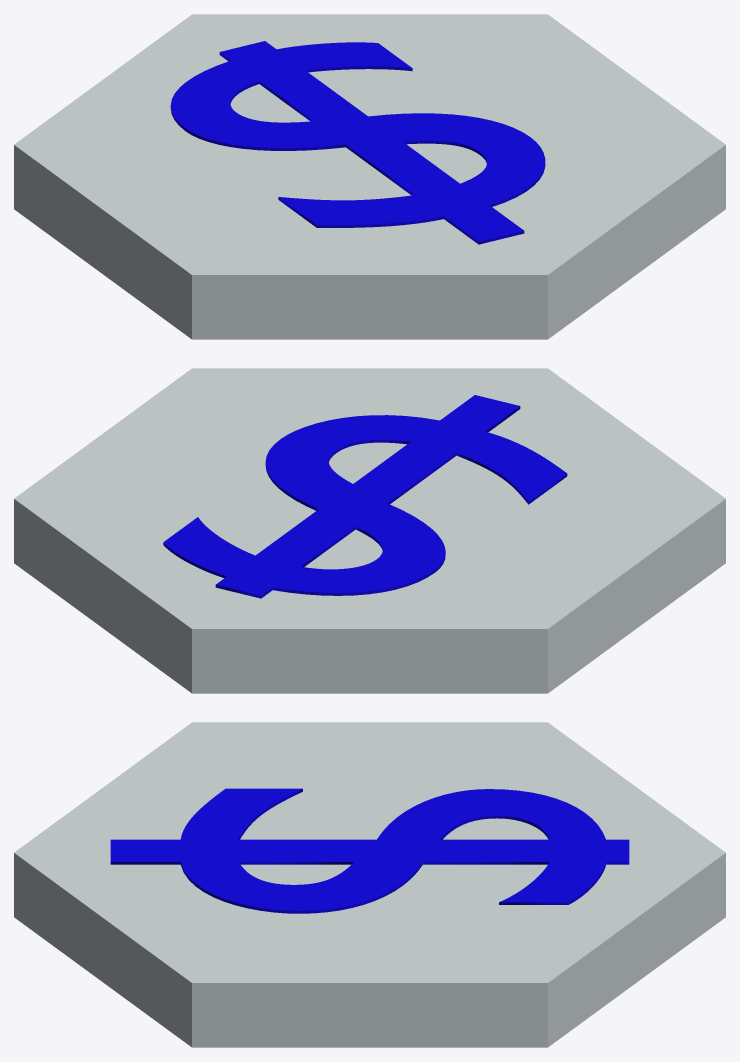
Rendered from money-temple.fbx.
3 views of the same model, one above another, from view 1: azimuth 30°, elevation 25°; view 2: azimuth 150°, elevation 25°; view 3: azimuth 270°, elevation 25° (orthographic).
Parts seen in each view (by area): view 1: Temple.001|Cylinder|Dupli|1, Temple.001|$|Dupli|; view 2: Temple.001|Cylinder|Dupli|1, Temple.001|$|Dupli|; view 3: Temple.001|Cylinder|Dupli|1, Temple.001|$|Dupli|.
Boxes of the visible parts, bbox=[...] form: Temple.001|Cylinder|Dupli|1: bbox=[14, 14, 725, 339]; Temple.001|$|Dupli|: bbox=[170, 41, 545, 244]; Temple.001|Cylinder|Dupli|1: bbox=[14, 368, 725, 693]; Temple.001|$|Dupli|: bbox=[163, 395, 567, 598]; Temple.001|Cylinder|Dupli|1: bbox=[14, 722, 725, 1047]; Temple.001|$|Dupli|: bbox=[110, 788, 629, 913].
Bounding box in the file's own units: 173 × 20.9 × 200.
